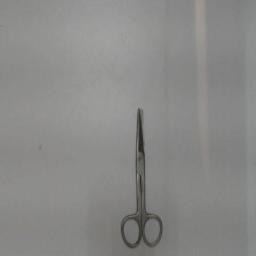Dressing Scissors: (114, 98, 166, 254)
